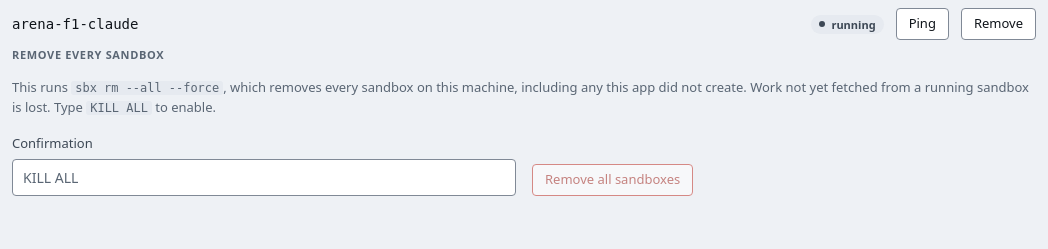
it: SandboxControls failure paths › alerts when a ping fails
The width and height of the screenshot is (1048, 249).
Click the button "Ping". click: [922, 24]
box: [896,8,949,40]
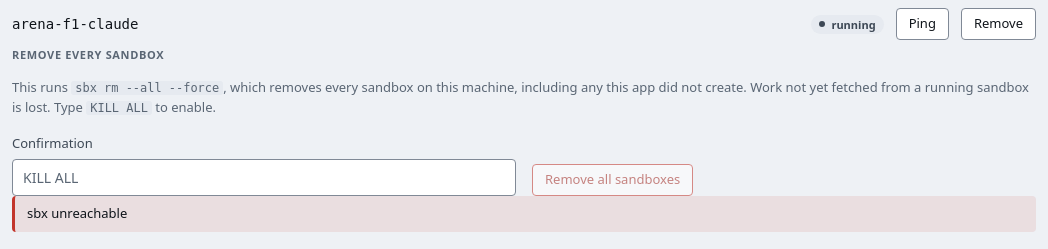
Expected: the message reads "sbx unreachable", [27,204,127,222]
